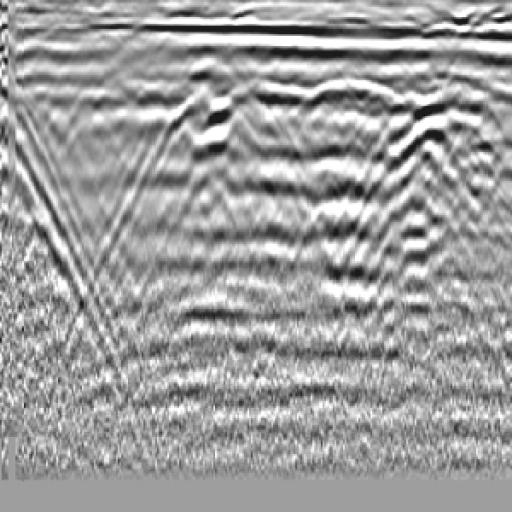metalic: (135, 43, 294, 151)
